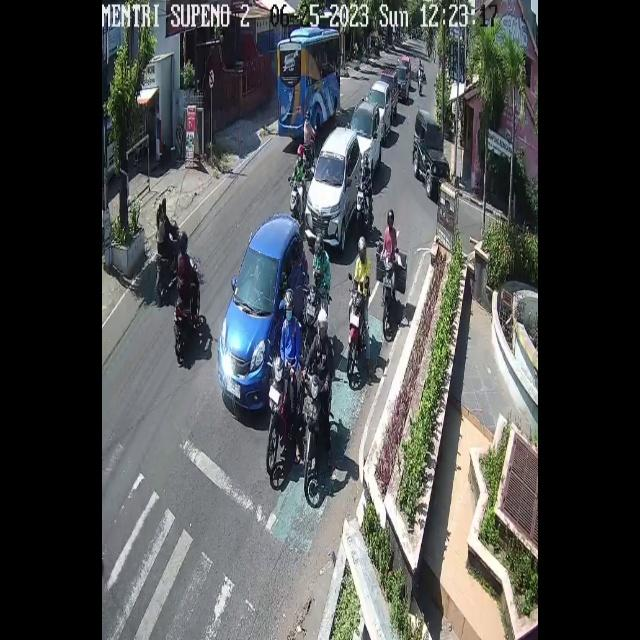bus: (266, 357, 293, 476), (302, 373, 325, 495), (173, 255, 201, 354), (155, 219, 179, 300), (346, 290, 365, 377), (382, 256, 397, 335), (304, 282, 322, 327), (356, 182, 366, 233), (303, 128, 315, 163), (289, 179, 300, 215), (418, 76, 422, 94)
car: (277, 27, 342, 135)
motorcycle: (217, 212, 309, 410), (304, 126, 360, 252), (411, 109, 450, 196), (348, 97, 382, 171), (366, 80, 391, 137), (380, 67, 398, 118), (397, 65, 410, 101)
